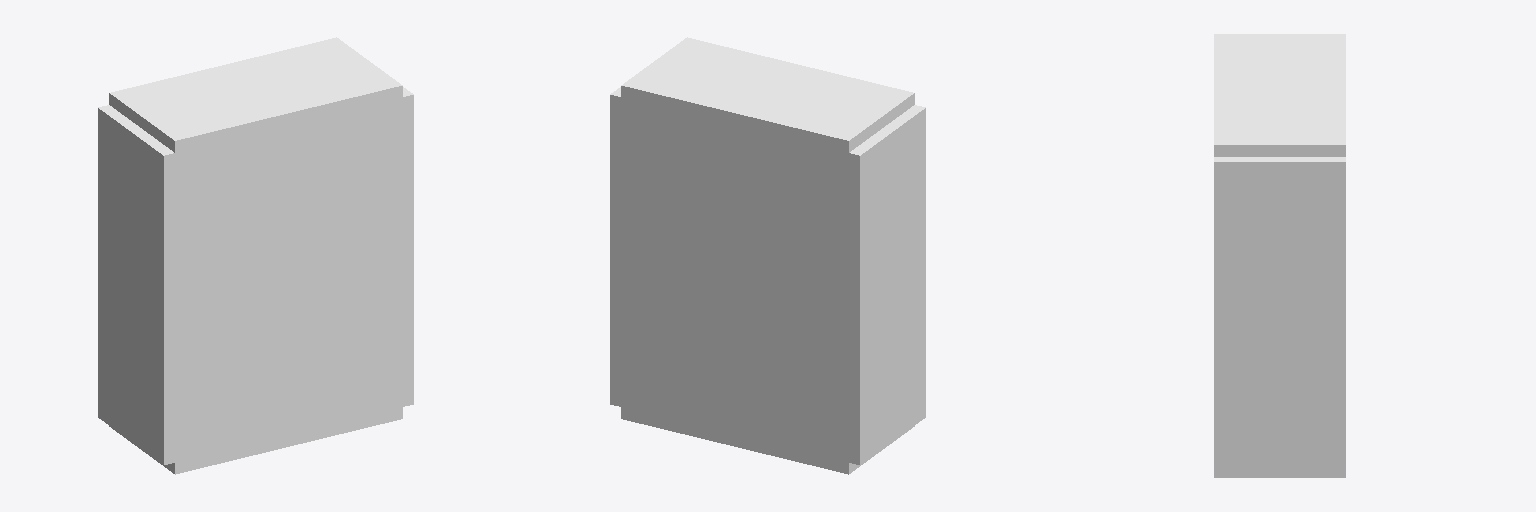
File: Lucas-4.obj
3 views of the same model, side by side, from view 1: azimuth 30°, elevation 25°; view 2: azimuth 150°, elevation 25°; view 3: azimuth 270°, elevation 25° (orthographic).
Parts seen in each view (by area): view 1: object 1; view 2: object 1; view 3: object 1.
Part boxes in pixels (left/top/right/bottom): object 1: left=98, top=37, right=413, bottom=474; object 1: left=610, top=37, right=925, bottom=474; object 1: left=1214, top=34, right=1345, bottom=477.
Bounding box in the file's own units: 2.2 × 2.8 × 1.